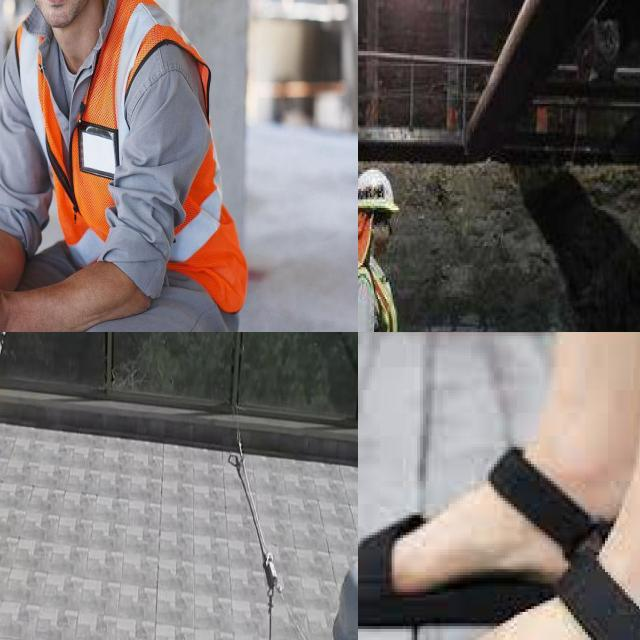Harness: (229, 429, 281, 640)
Sandals: (358, 539, 640, 640)
face_nomask: (16, 0, 97, 27)
head_helmet: (358, 167, 402, 212)
person: (0, 0, 237, 332), (358, 163, 418, 332)
vest: (16, 0, 235, 301), (358, 258, 400, 332)
